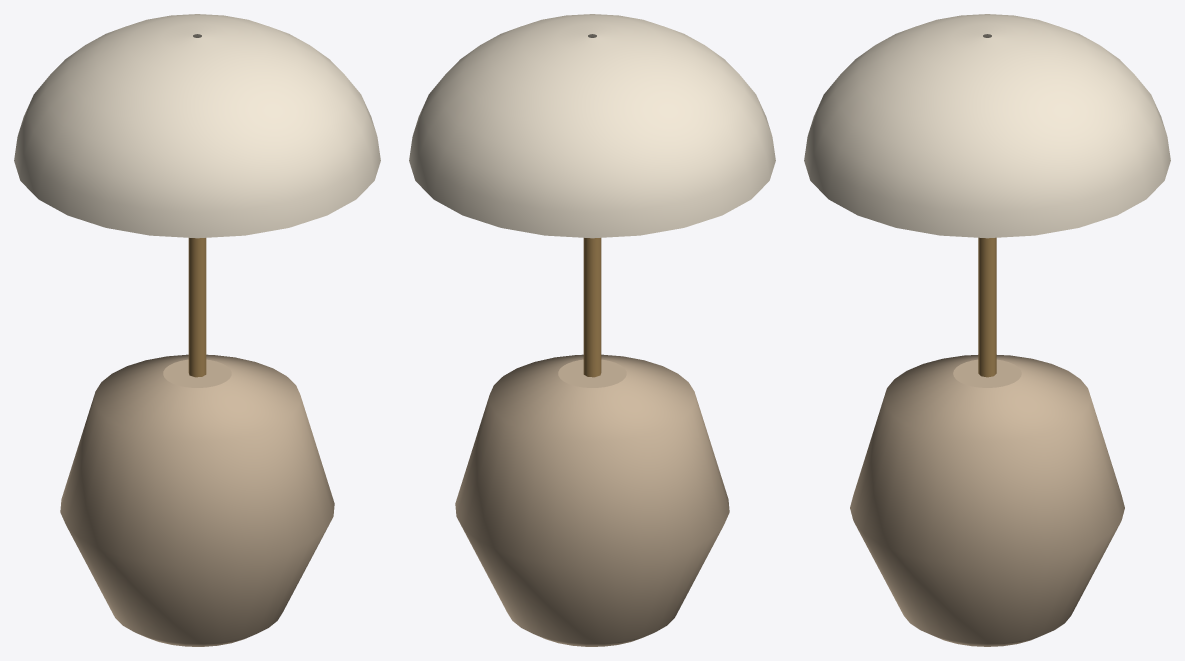
File: SAB-TLP-std.glb
The picture shows the model from 3 angles, left to right: view 1: azimuth 30°, elevation 25°; view 2: azimuth 150°, elevation 25°; view 3: azimuth 270°, elevation 25°; orthographic projection.
Visible parts, largest first — view 1: SAB-TLP-std; view 2: SAB-TLP-std; view 3: SAB-TLP-std.
Boxes of the visible parts, box(x1,y1,x2,y2) form: SAB-TLP-std: box(14, 14, 380, 646); SAB-TLP-std: box(409, 14, 775, 646); SAB-TLP-std: box(804, 14, 1170, 646).
Size of the model in its own units: 0.32 by 0.56 by 0.32.
